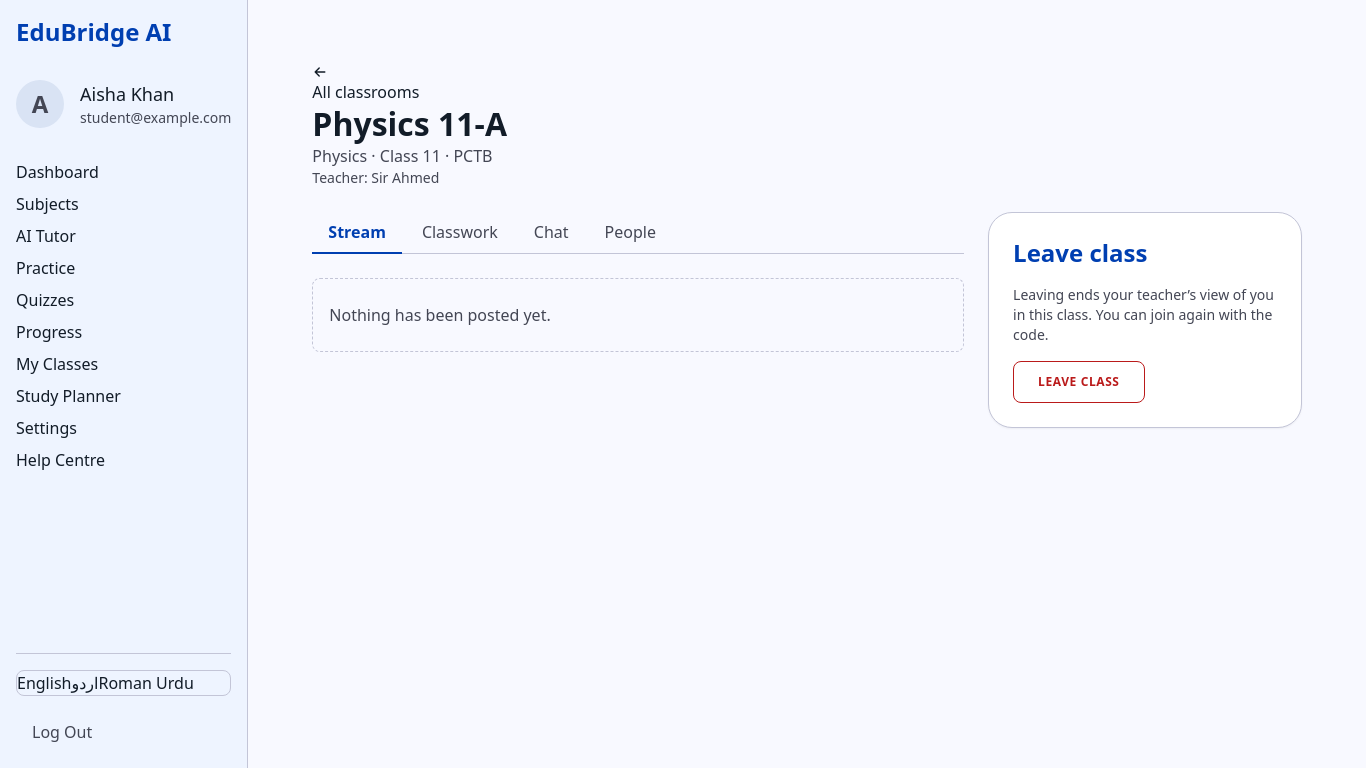
Scenario: a member › opens the class chat from its tab
Click the tab "Chat" at (551, 233), box top-left (518, 212), bottom-right (585, 254)
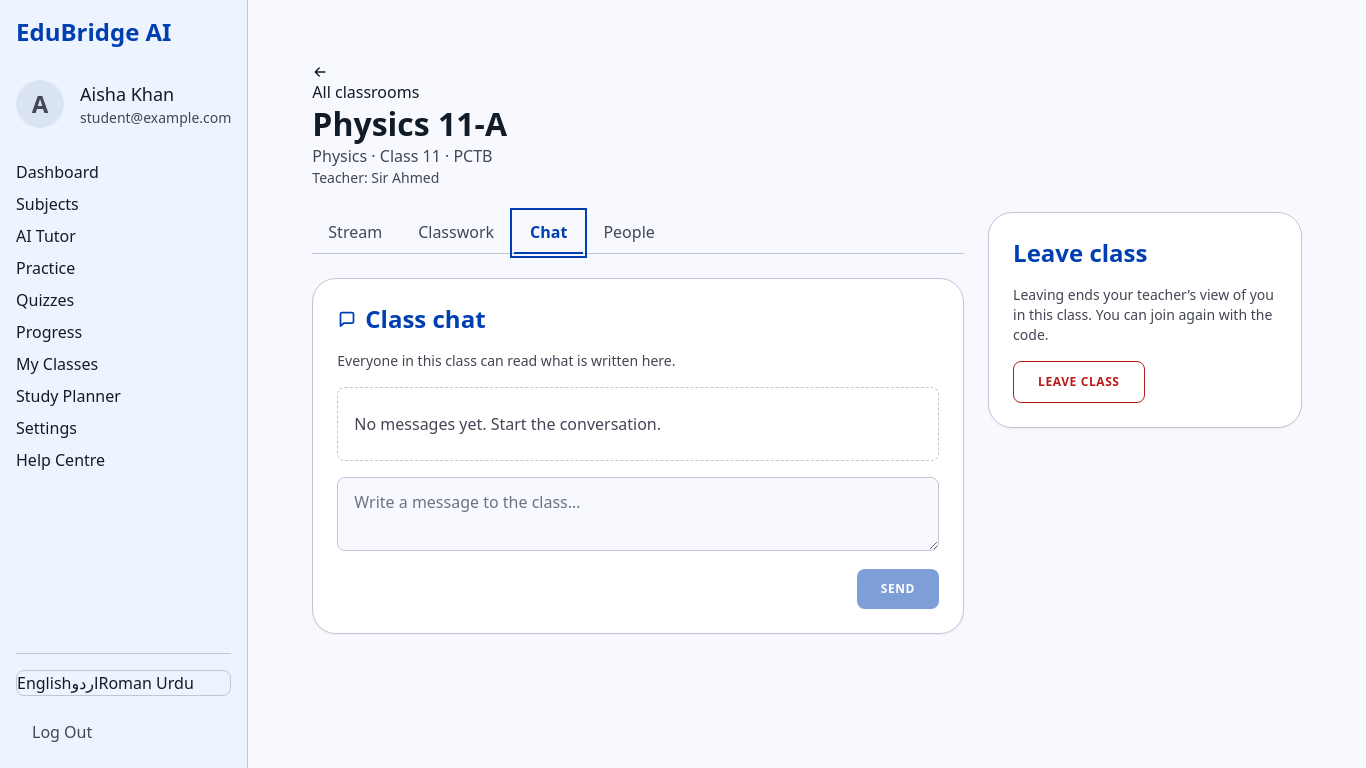
Now the heading "Class chat" is shown, box top-left (337, 303), bottom-right (486, 335)
